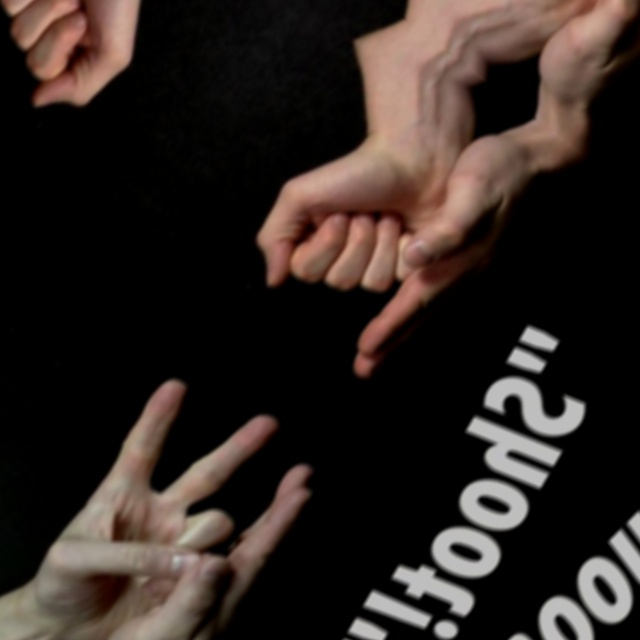Rock: (0, 0, 208, 157)
Scissors: (0, 101, 14, 475)
